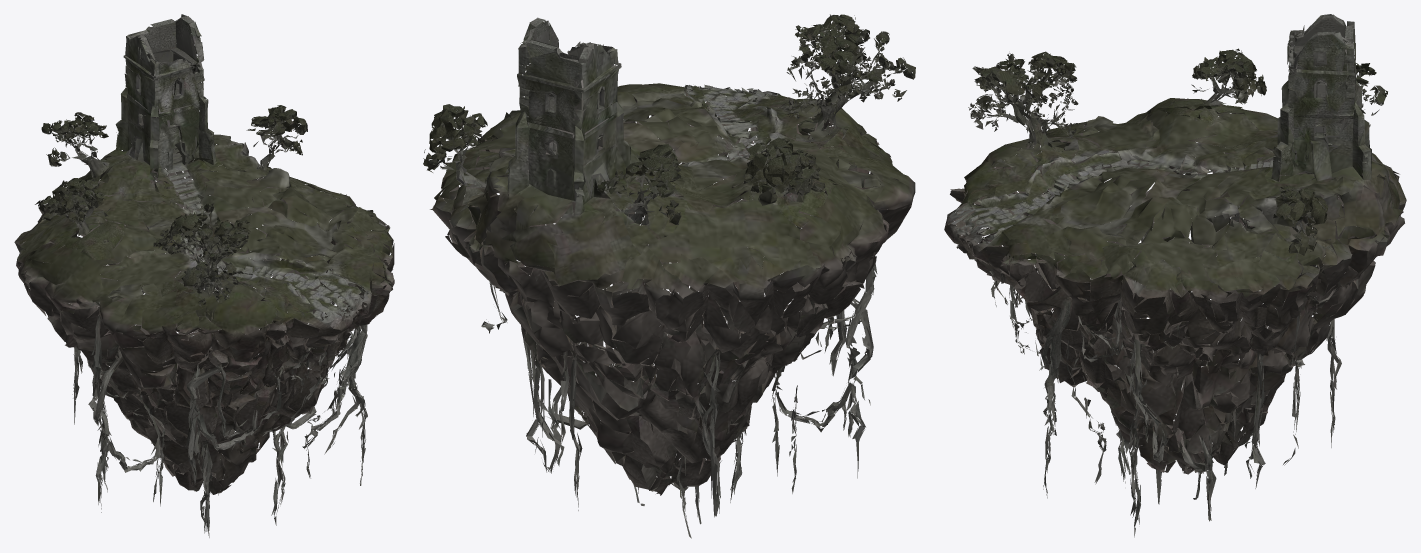
The model's file is isle_moor.glb.
The picture shows the model from 3 angles, left to right: view 1: azimuth 30°, elevation 25°; view 2: azimuth 150°, elevation 25°; view 3: azimuth 270°, elevation 25°; orthographic projection. The views are drawn at different scales.
Visible parts, largest first — view 1: Mesh_0; view 2: Mesh_0; view 3: Mesh_0.
Boxes of the visible parts, left/top/right/bottom form: Mesh_0: left=14, top=14, right=394, bottom=537; Mesh_0: left=423, top=14, right=915, bottom=538; Mesh_0: left=944, top=14, right=1406, bottom=537.
Bounding box in the file's own units: 10 × 12.94 × 10.75.
Materials: 1 (1 with a texture image).
